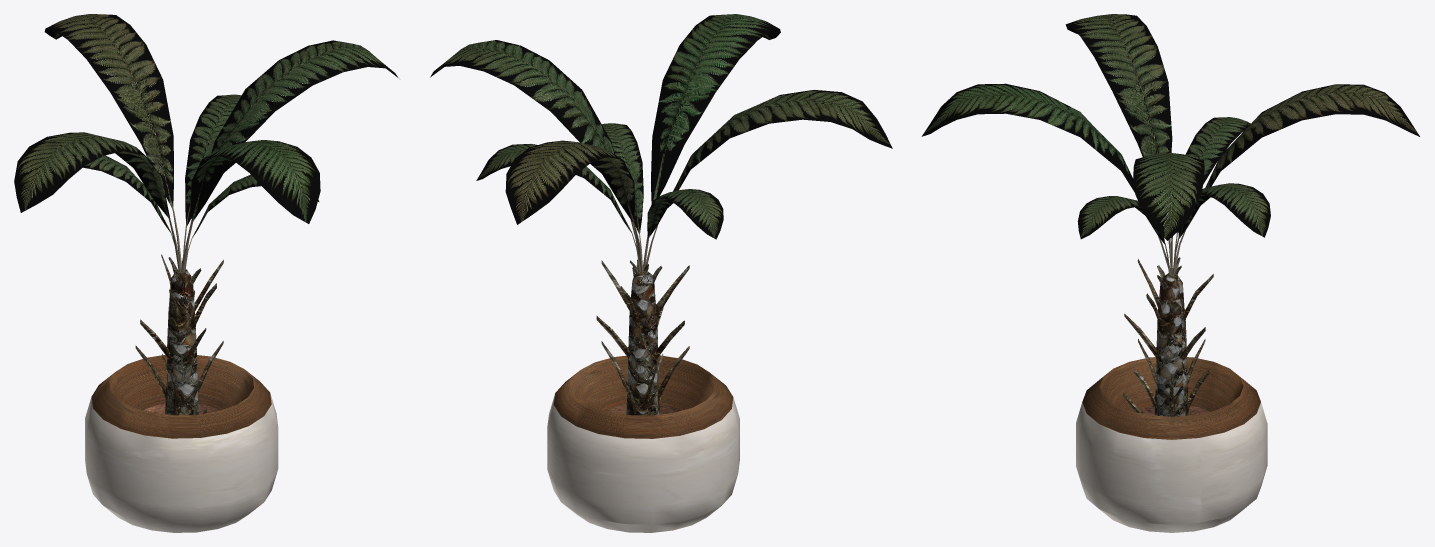
The model's file is tree.obj.
The picture shows the model from 3 angles, left to right: view 1: azimuth 30°, elevation 25°; view 2: azimuth 150°, elevation 25°; view 3: azimuth 270°, elevation 25°; orthographic projection.
Parts seen in each view (by area): view 1: cfdb0b16fad_tree__3d_asset_0_gl3:GenTree_105_AE3D_03122023_F2:fr, cfdb0b16fad_tree__3d_asset_0_gl3:pCylinder1; view 2: cfdb0b16fad_tree__3d_asset_0_gl3:GenTree_105_AE3D_03122023_F2:fr, cfdb0b16fad_tree__3d_asset_0_gl3:pCylinder1; view 3: cfdb0b16fad_tree__3d_asset_0_gl3:GenTree_105_AE3D_03122023_F2:fr, cfdb0b16fad_tree__3d_asset_0_gl3:pCylinder1.
Boxes of the visible parts, left/top/right/bottom form: cfdb0b16fad_tree__3d_asset_0_gl3:GenTree_105_AE3D_03122023_F2:fr: left=14, top=14, right=398, bottom=415; cfdb0b16fad_tree__3d_asset_0_gl3:pCylinder1: left=85, top=355, right=278, bottom=532; cfdb0b16fad_tree__3d_asset_0_gl3:GenTree_105_AE3D_03122023_F2:fr: left=430, top=14, right=892, bottom=415; cfdb0b16fad_tree__3d_asset_0_gl3:pCylinder1: left=547, top=355, right=739, bottom=532; cfdb0b16fad_tree__3d_asset_0_gl3:GenTree_105_AE3D_03122023_F2:fr: left=921, top=14, right=1419, bottom=416; cfdb0b16fad_tree__3d_asset_0_gl3:pCylinder1: left=1076, top=357, right=1267, bottom=532.
Bounding box in the file's own units: 1.08 × 1.03 × 1.12.
4 materials, 4 textured.
